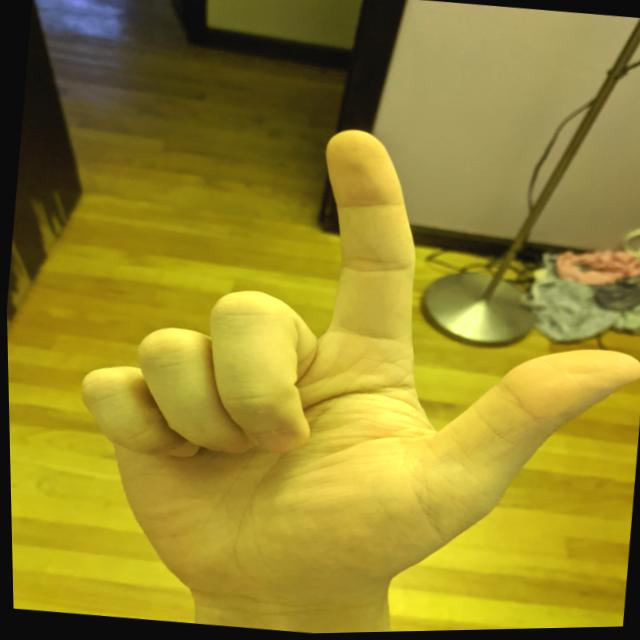L: (40, 92, 639, 639)
